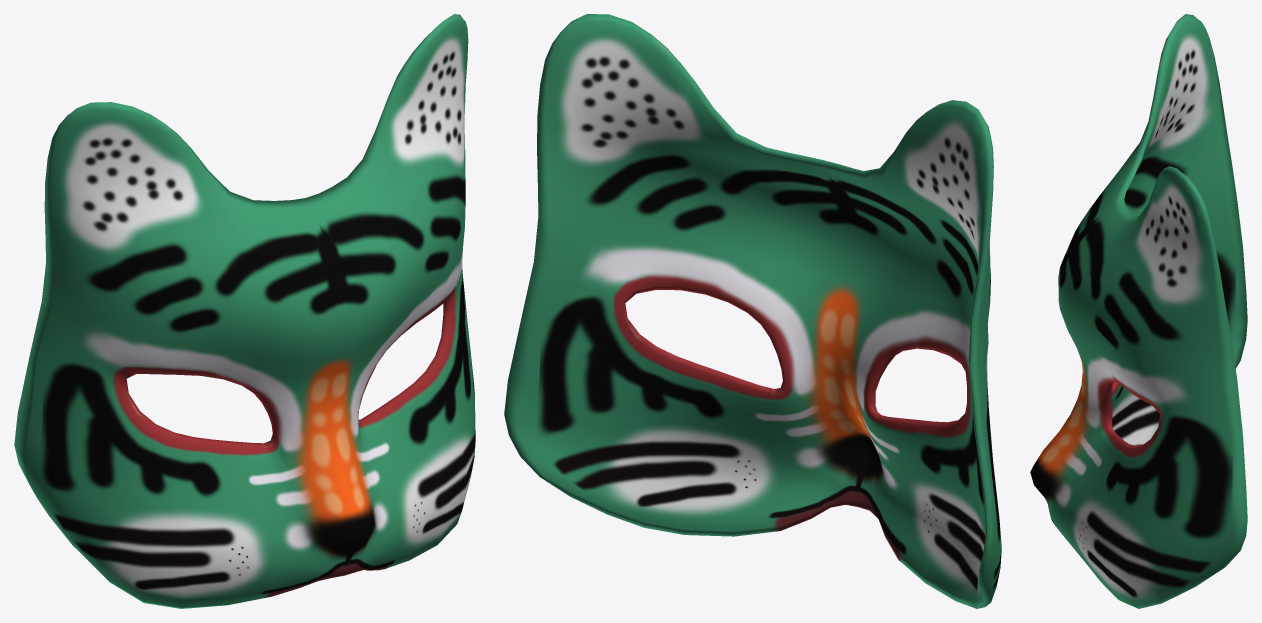
The model's file is cat1.glb.
3 views of the same model, side by side, from view 1: azimuth 30°, elevation 25°; view 2: azimuth 150°, elevation 25°; view 3: azimuth 270°, elevation 25° (orthographic). The views are drawn at different scales.
Visible parts, largest first — view 1: Cat mask vesh; view 2: Cat mask vesh; view 3: Cat mask vesh.
Boxes of the visible parts, x1=… form: Cat mask vesh: x1=14, y1=14, x2=475, y2=608; Cat mask vesh: x1=504, y1=14, x2=1001, y2=608; Cat mask vesh: x1=1030, y1=14, x2=1247, y2=608.
Size of the model in its own units: 3.9 by 4.11 by 1.79.
1 material, 1 textured.
